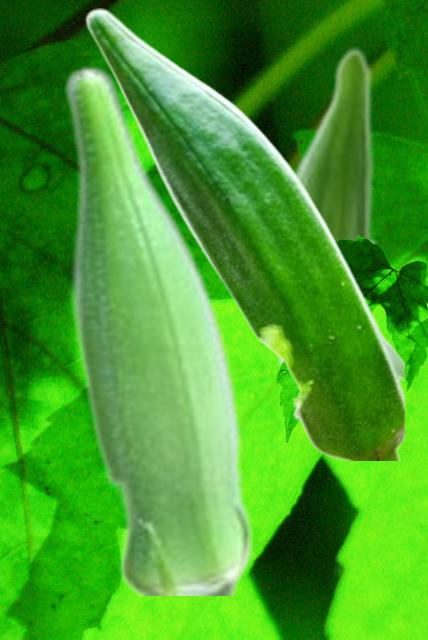okra: (84, 8, 403, 459), (62, 65, 251, 594), (274, 46, 376, 460)
